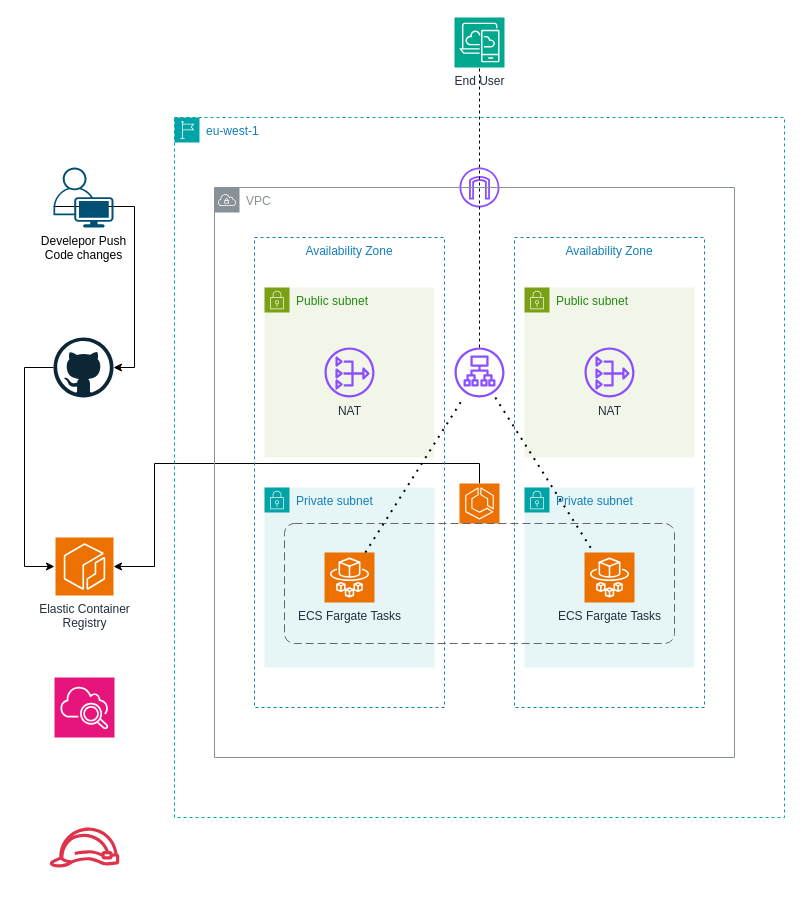
This 802x921 diagram has some shape labels left out. The shapes that lost their labels are listed below. From the top down, each one's box as (x1, y1, x2, y2) in pixels, then its label:
(459, 167, 499, 207): IGW
(52, 336, 114, 398): GitHub Actions Docker Build Push to ECR Force Deploy
(454, 347, 504, 397): ALB
(458, 482, 500, 524): ECS Cluster
(54, 676, 114, 738): CloudWatch Alerts ECS Insights
(48, 827, 119, 867): Relevent IAM Roles & Security groups
